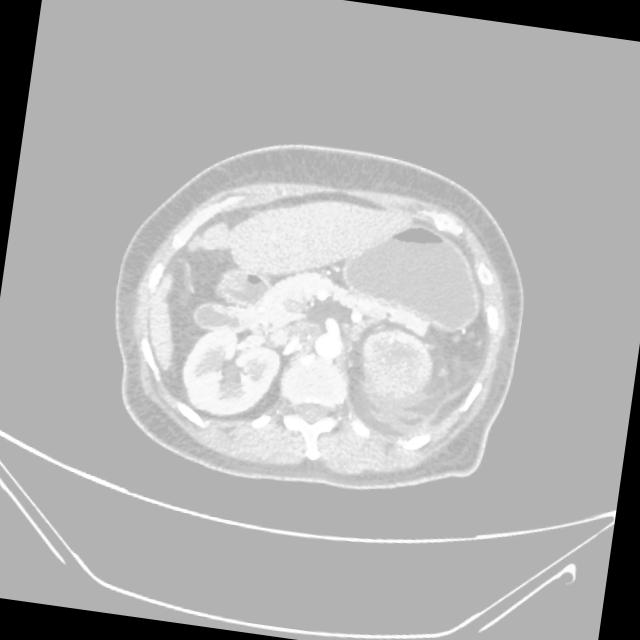TUMOR: (95, 157, 564, 416)
